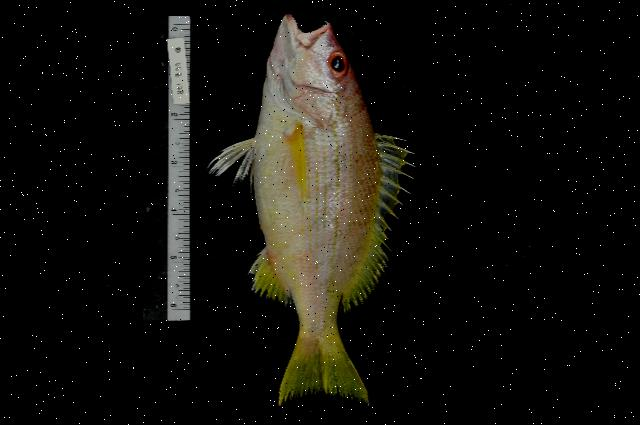Mulut: (272, 6, 342, 47)
Sirip Anal: (244, 248, 298, 316)
Sirip Dada: (282, 116, 316, 217)
Sirip Ekor: (272, 346, 379, 410)
Sirip Perut: (206, 133, 266, 194)
Sirip Punggung: (339, 134, 414, 311)
